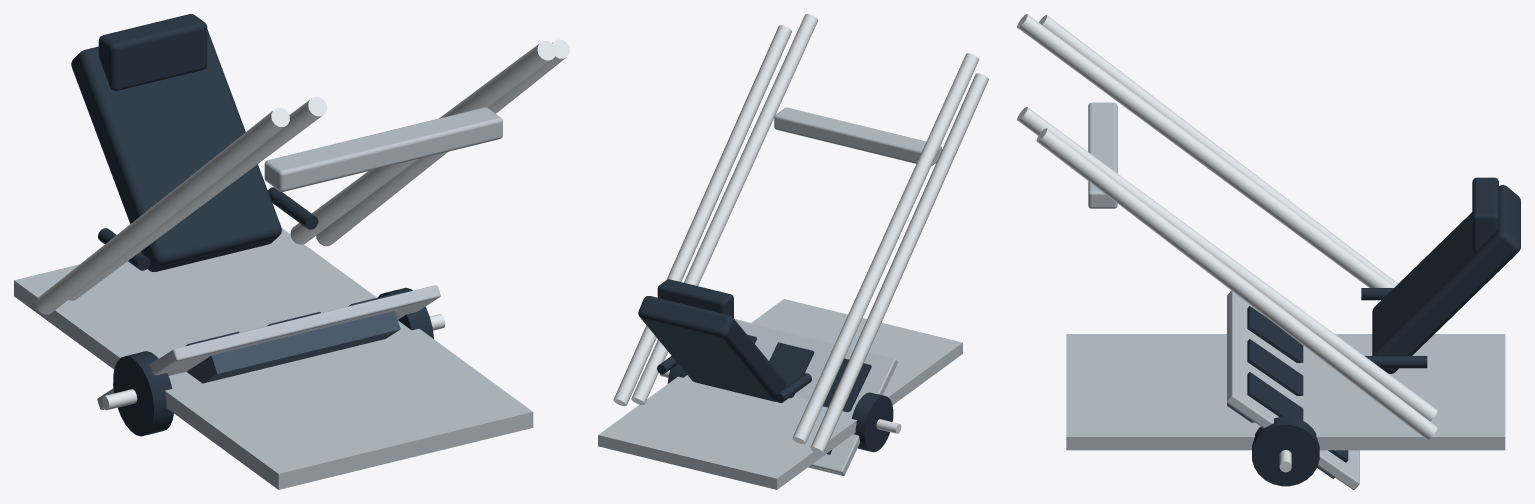
Rendered from leg_press.glb.
3 renders of one model, left to right at view 1: azimuth 30°, elevation 25°; view 2: azimuth 150°, elevation 25°; view 3: azimuth 270°, elevation 25°, orthographic. The views are drawn at different scales.
Parts seen in each view (by area): view 1: base, back, inclinedRail (×2), sledCrossbar, headRest, footPlate, footSurface, sledGuideR, sledWeight (×2), sledGuideL, seatHandle; view 2: base, inclinedRail (×2), back, sledGuideL, sledGuideR, footSurface, sledCrossbar, sledWeight, headRest, footTread0, footTread-0.32, seatHandle; view 3: base, inclinedRail (×2), back, sledGuideL, sledGuideR, footSurface, sledWeight, sledCrossbar, headRest, footTread0, footTread0.32, footTread-0.32 (+1 smaller).
Boxes of the visible parts, x1=… form: base: x1=14, y1=228, x2=533, y2=489; back: x1=71, y1=29, x2=281, y2=271; inclinedRail (×2): x1=36, y1=39, x2=569, y2=314; sledCrossbar: x1=264, y1=107, x2=502, y2=191; headRest: x1=98, y1=14, x2=207, y2=90; footPlate: x1=186, y1=311, x2=400, y2=383; footSurface: x1=97, y1=285, x2=440, y2=409; sledGuideR: x1=290, y1=41, x2=556, y2=244; sledWeight (×2): x1=113, y1=287, x2=433, y2=436; sledGuideL: x1=68, y1=96, x2=327, y2=300; seatHandle: x1=268, y1=187, x2=318, y2=229; base: x1=598, y1=299, x2=962, y2=489; inclinedRail (×2): x1=613, y1=25, x2=988, y2=454; back: x1=638, y1=296, x2=786, y2=401; sledGuideL: x1=792, y1=53, x2=979, y2=444; sledGuideR: x1=631, y1=14, x2=818, y2=404; footSurface: x1=734, y1=319, x2=897, y2=475; sledCrossbar: x1=774, y1=107, x2=941, y2=166; sledWeight: x1=851, y1=392, x2=893, y2=452; headRest: x1=657, y1=279, x2=733, y2=318; footTread0: x1=769, y1=342, x2=814, y2=398; footTread-0.32: x1=823, y1=358, x2=871, y2=454; seatHandle: x1=775, y1=373, x2=811, y2=403; base: x1=1066, y1=334, x2=1505, y2=450; inclinedRail (×2): x1=1036, y1=15, x2=1437, y2=440; back: x1=1372, y1=185, x2=1520, y2=373; sledGuideL: x1=1017, y1=14, x2=1395, y2=287; sledGuideR: x1=1017, y1=107, x2=1437, y2=421; footSurface: x1=1227, y1=290, x2=1359, y2=489; sledWeight: x1=1252, y1=416, x2=1319, y2=486; sledCrossbar: x1=1088, y1=102, x2=1117, y2=208; headRest: x1=1472, y1=177, x2=1498, y2=251; footTread0: x1=1247, y1=339, x2=1303, y2=395; footTread0.32: x1=1247, y1=372, x2=1348, y2=462; footTread-0.32: x1=1247, y1=306, x2=1303, y2=362.
Bounding box in the file's own units: 1.32 × 1.72 × 2.07.
